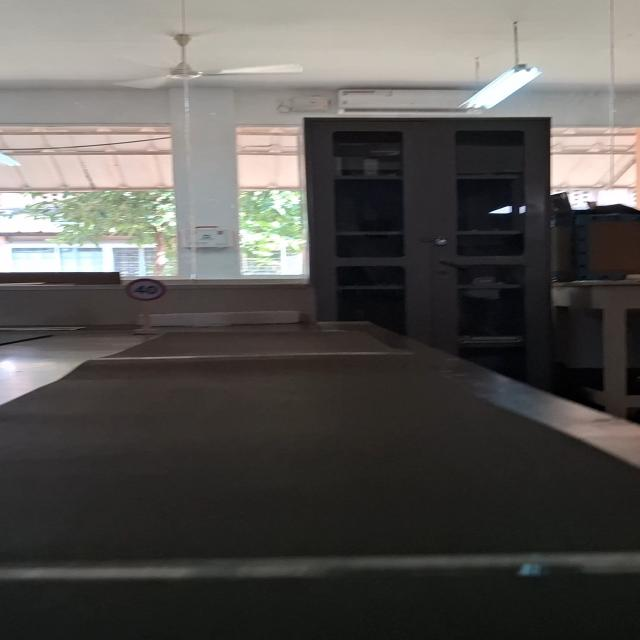Speed40: (123, 277, 168, 302)
